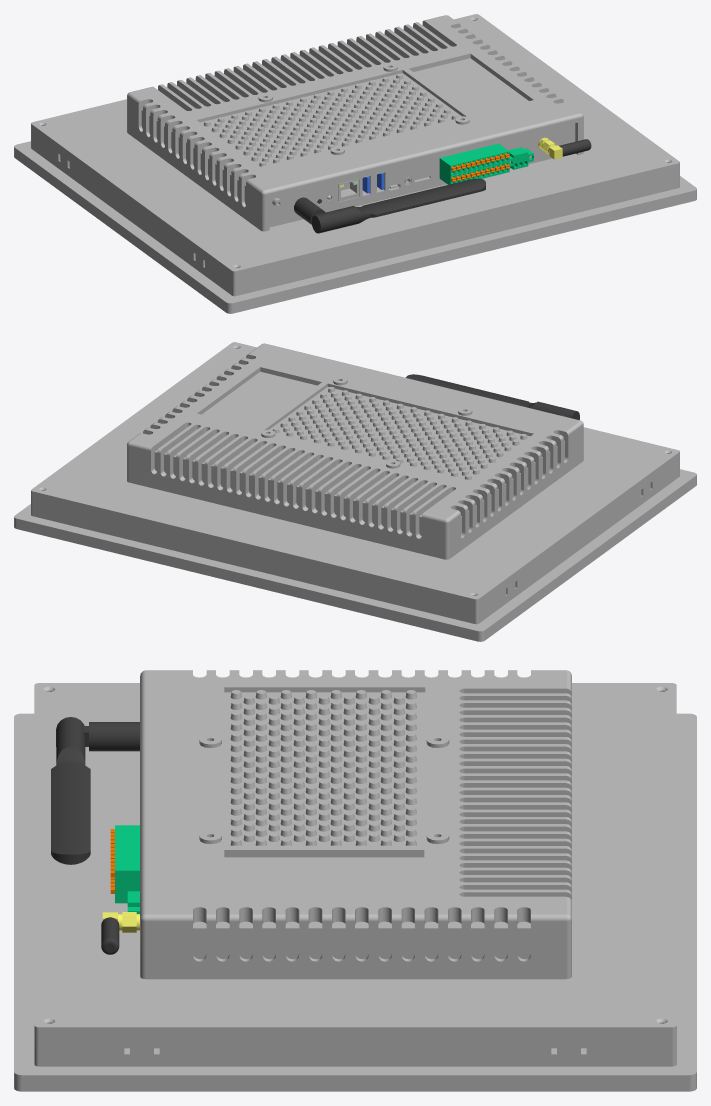
File: PPC-CM4-150.fbx
3 renders of one model, top to bottom at view 1: azimuth 30°, elevation 25°; view 2: azimuth 150°, elevation 25°; view 3: azimuth 270°, elevation 25°, orthographic. The views are drawn at different scales.
Parts seen in each view (by area): view 1: Part 63, Part 67, Part 64, Part 65; view 2: Part 63, Part 67; view 3: Part 63, Part 67, Part 64.
Boxes of the visible parts, <box> form: Part 63: <box>14,14,696,313</box>; Part 67: <box>294,139,591,233</box>; Part 64: <box>439,143,533,184</box>; Part 65: <box>451,153,509,181</box>; Part 63: <box>14,342,696,641</box>; Part 67: <box>406,374,579,419</box>; Part 63: <box>14,670,696,1091</box>; Part 67: <box>51,717,139,954</box>; Part 64: <box>115,825,139,913</box>.
Bounding box in the file's own units: 37.65 × 5.93 × 30.05.
